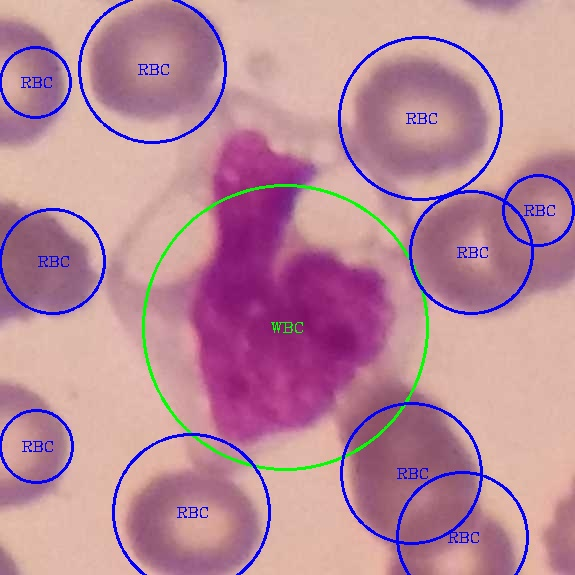RBC: (340, 373, 483, 558), (343, 43, 494, 189), (404, 182, 541, 325), (82, 0, 226, 130), (118, 459, 266, 574), (1, 193, 101, 333), (487, 142, 573, 296), (370, 503, 530, 573), (0, 11, 72, 158), (0, 372, 71, 518)
WBC: (95, 76, 408, 453)
